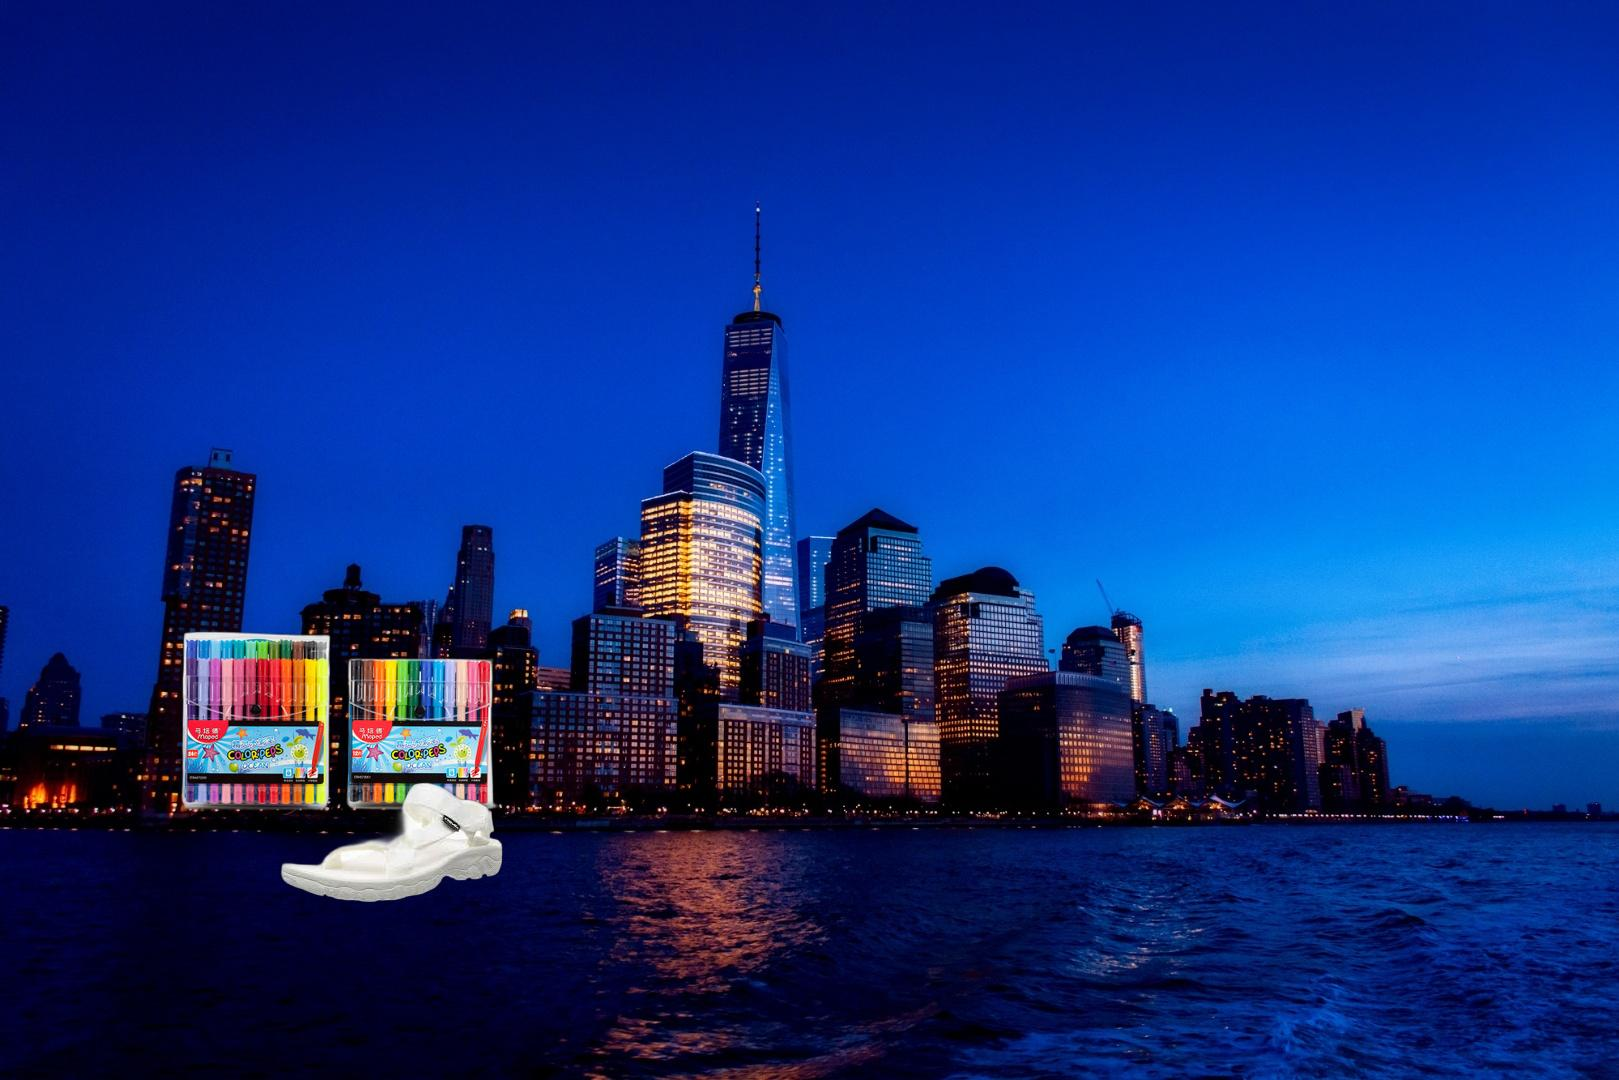penholder: (176, 628, 504, 826)
shoes: (278, 735, 504, 905)
